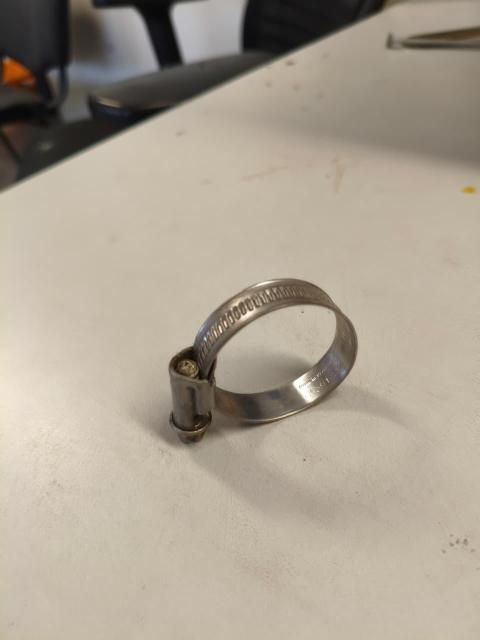Metal: (155, 273, 360, 438)
